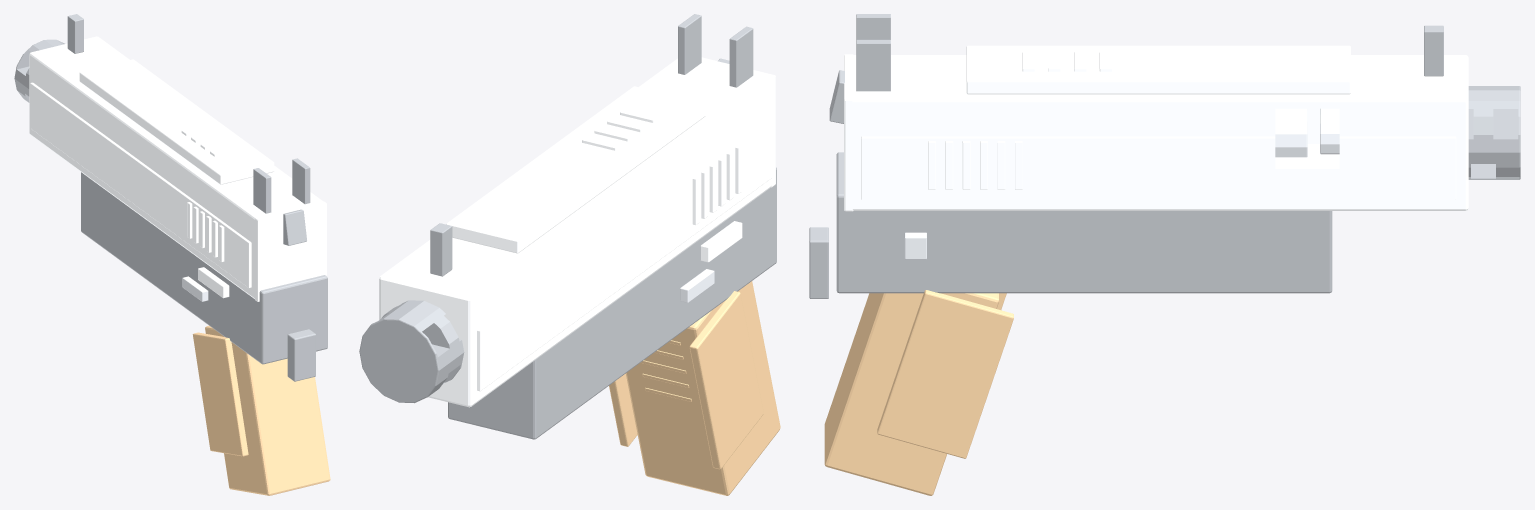
Rendered from deagle.glb.
The picture shows the model from 3 angles, left to right: view 1: azimuth 30°, elevation 25°; view 2: azimuth 150°, elevation 25°; view 3: azimuth 270°, elevation 25°; orthographic projection. The views are drawn at different scales.
Visible parts, largest first — view 1: Slide, Frame, Grip, GripPanelL, StockIrons, Beavertail, MuzzleComp, SlideRail, _HammerSpur, SlideStopLever, TakedownLever; view 2: Slide, Frame, Grip, GripPanelL, MuzzleComp, StockIrons, SlideRail, GripPanelR, SlideStopLever, FrontStrap, TakedownLever; view 3: Slide, Frame, GripPanelR, Grip, MuzzleComp, StockIrons, ChamberBlock, Beavertail, SlideRail, Barrel.
Boxes of the visible parts, bbox=[...] form: Slide: bbox=[29, 36, 326, 301]; Frame: bbox=[81, 172, 327, 364]; Grip: bbox=[205, 325, 330, 495]; GripPanelL: bbox=[192, 332, 248, 456]; StockIrons: bbox=[67, 14, 310, 213]; Beavertail: bbox=[287, 329, 315, 381]; MuzzleComp: bbox=[14, 39, 64, 102]; SlideRail: bbox=[181, 124, 239, 156]; _HammerSpur: bbox=[283, 209, 306, 245]; SlideStopLever: bbox=[198, 267, 229, 298]; TakedownLever: bbox=[182, 276, 208, 301]; Slide: bbox=[379, 57, 775, 407]; Frame: bbox=[448, 167, 776, 439]; Grip: bbox=[625, 281, 780, 495]; GripPanelL: bbox=[689, 291, 763, 469]; MuzzleComp: bbox=[359, 300, 464, 403]; StockIrons: bbox=[430, 14, 753, 276]; SlideRail: bbox=[582, 107, 659, 150]; GripPanelR: bbox=[609, 374, 637, 446]; SlideStopLever: bbox=[700, 221, 742, 262]; FrontStrap: bbox=[640, 340, 691, 401]; TakedownLever: bbox=[680, 269, 714, 302]; Slide: bbox=[844, 45, 1468, 211]; Frame: bbox=[836, 152, 1332, 293]; GripPanelR: bbox=[877, 290, 1013, 458]; Grip: bbox=[824, 293, 999, 495]; MuzzleComp: bbox=[1468, 86, 1520, 179]; StockIrons: bbox=[856, 14, 1443, 91]; ChamberBlock: bbox=[1275, 108, 1307, 157]; Beavertail: bbox=[809, 227, 828, 298]; SlideRail: bbox=[1022, 52, 1112, 71]; Barrel: bbox=[1320, 108, 1339, 154].
Bounding box in the file's own units: 0.0509 × 0.1993 × 0.287.
